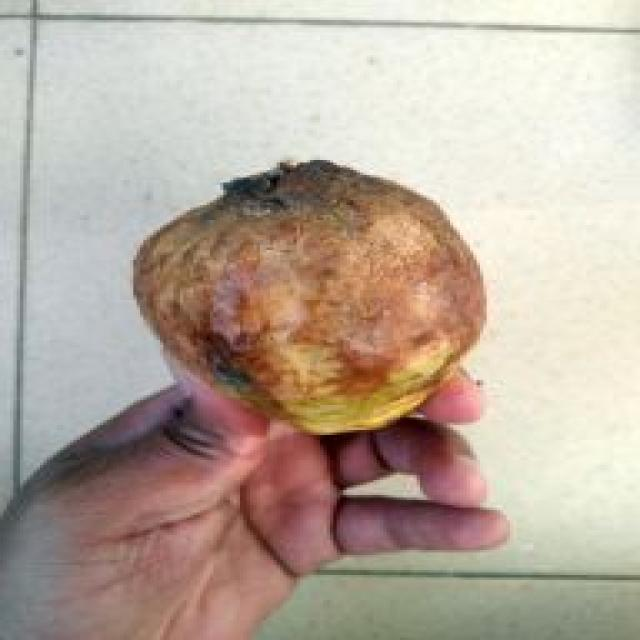Bad_Guava: (133, 160, 485, 434)
